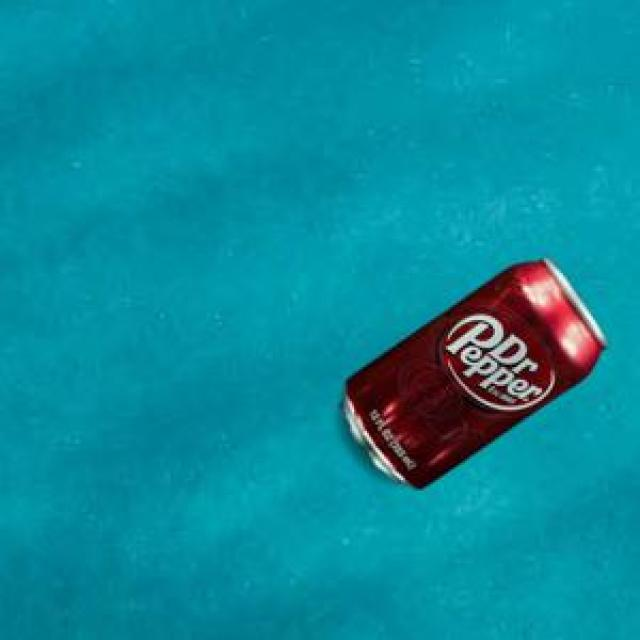logam: (338, 253, 605, 485)
